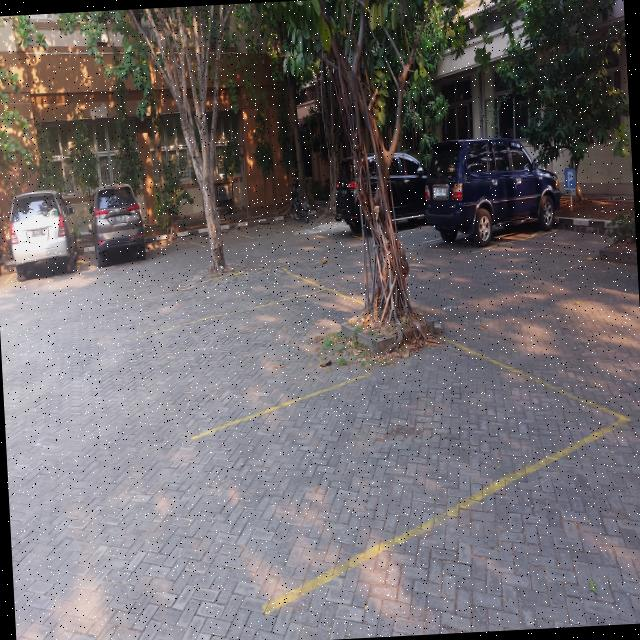empty: (191, 343, 625, 610), (140, 289, 370, 369), (126, 264, 327, 336), (473, 230, 619, 274), (145, 237, 203, 257), (228, 221, 300, 237), (181, 231, 254, 246)
occupied: (422, 141, 562, 253), (5, 191, 80, 285), (77, 183, 146, 269)
